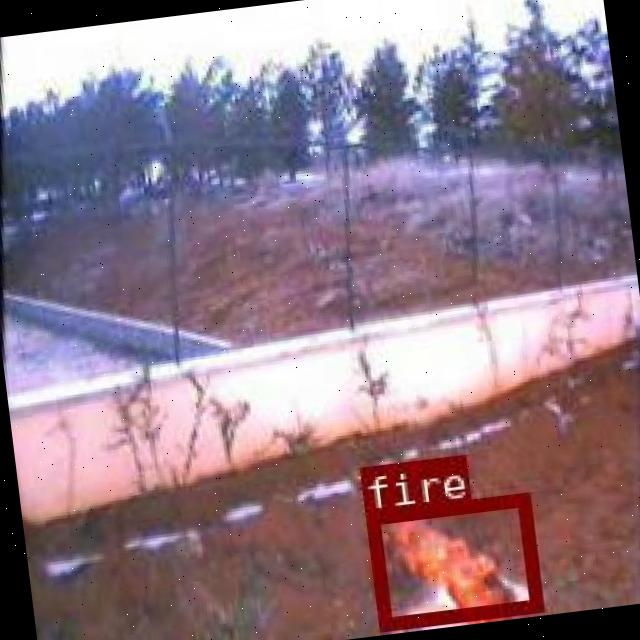fire: (362, 492, 540, 628)
